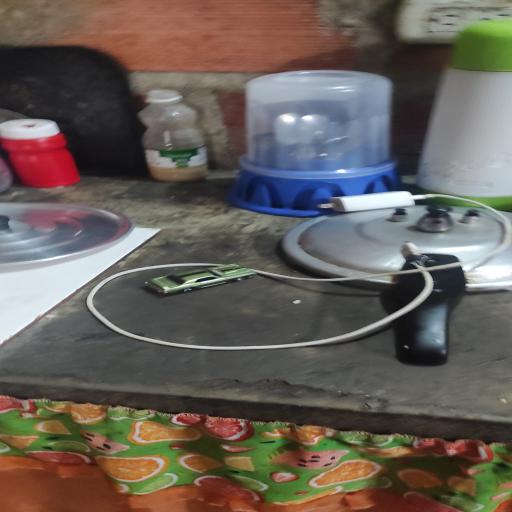Carrito: (145, 264, 256, 294)
